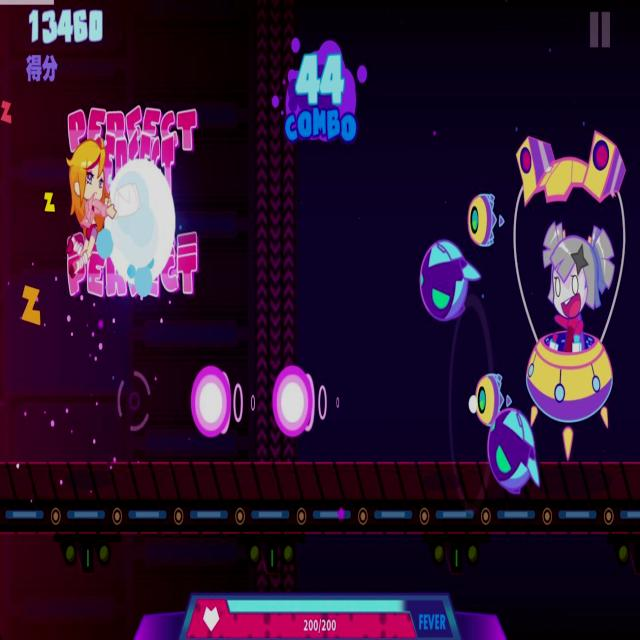qiangboss: (514, 132, 630, 460)
yuan: (271, 363, 345, 438), (187, 365, 259, 439)
